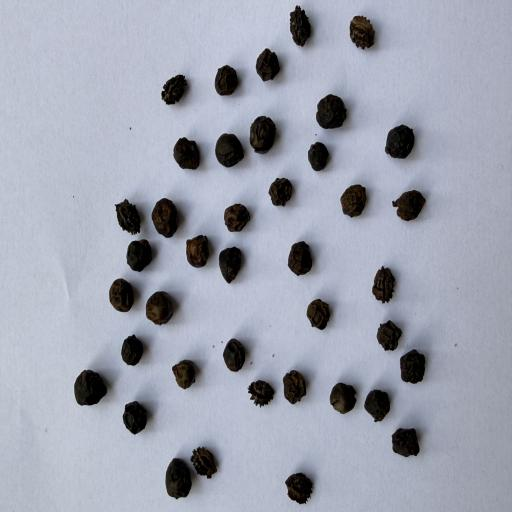Black_pepper: (388, 421, 433, 461), (155, 458, 192, 504), (361, 374, 394, 425), (400, 340, 430, 392), (391, 188, 426, 226), (72, 369, 106, 408), (382, 121, 415, 161), (327, 376, 361, 414), (372, 312, 402, 354), (122, 239, 156, 275), (249, 113, 278, 155), (150, 199, 179, 241), (214, 131, 246, 169), (279, 369, 310, 406), (338, 180, 366, 220), (316, 92, 346, 129), (172, 136, 202, 172), (217, 246, 242, 286), (305, 297, 331, 334), (222, 202, 250, 236), (108, 278, 134, 314), (255, 46, 280, 83), (122, 401, 148, 436), (213, 64, 238, 100), (145, 292, 173, 324), (120, 333, 144, 370), (184, 236, 211, 268), (287, 241, 312, 275), (221, 338, 246, 372), (306, 139, 330, 174), (170, 360, 197, 390), (269, 178, 294, 208)
papaya_seed: (99, 186, 151, 238), (278, 0, 322, 54), (336, 1, 379, 56), (278, 460, 326, 508), (371, 251, 404, 316), (191, 441, 232, 485), (162, 58, 194, 114), (246, 373, 278, 409)
